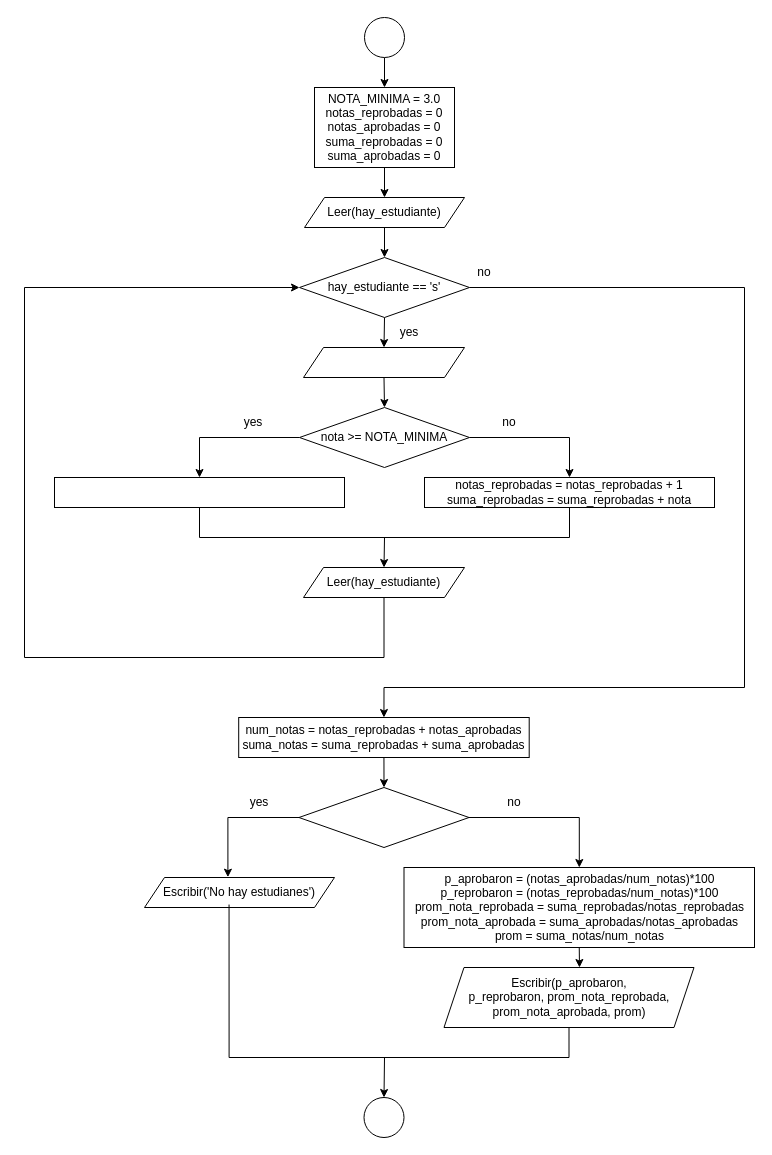
Image size: 772x1155. Some labels were removed from this diagram. Each missing label, with the box of its shape:
Fin: (363, 1096, 404, 1138)
Inicio: (364, 16, 404, 58)
leer(nota): (302, 346, 464, 378)
notas_aprobadas = notas_aprobadas + 1 suma_aprobadas = suma_aprobadas + nota: (54, 476, 344, 508)
num_notas == 0: (298, 786, 469, 848)
